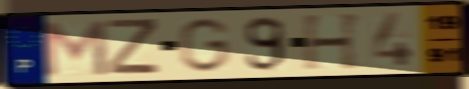4: (372, 11, 415, 70)
9: (243, 15, 286, 72)
G: (176, 16, 232, 74)
H: (300, 11, 366, 72)
M: (37, 18, 111, 78)
Z: (106, 16, 161, 76)
